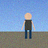person: (21, 13, 35, 39)
